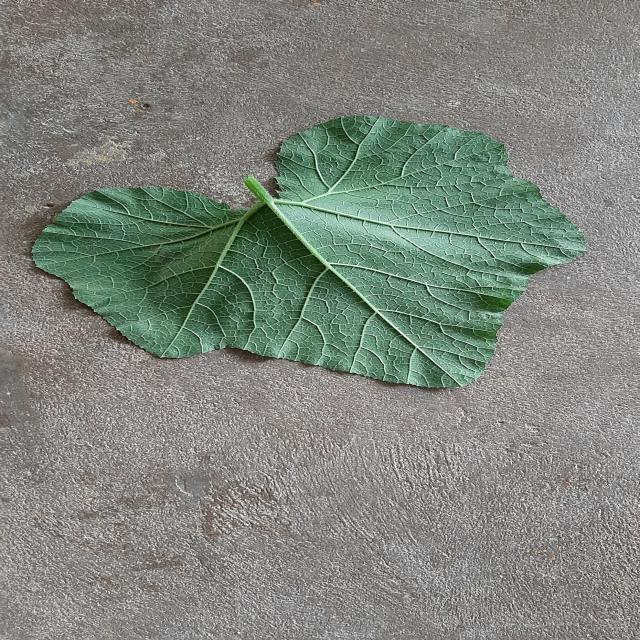pumpkin: (33, 116, 585, 388)
